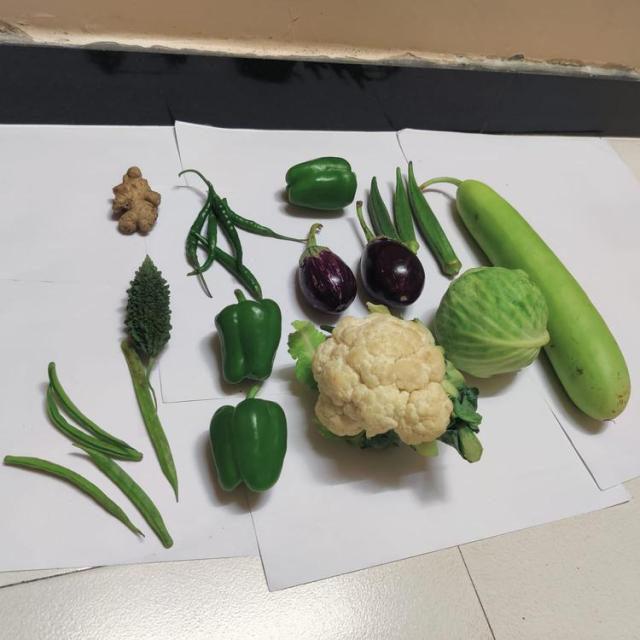Organik: (1, 353, 190, 560), (293, 315, 479, 462), (441, 160, 579, 280), (432, 267, 555, 384), (174, 169, 280, 301), (195, 381, 298, 499), (376, 159, 465, 273), (114, 243, 184, 364), (205, 289, 285, 387), (265, 144, 363, 221), (283, 226, 362, 315), (353, 223, 425, 306), (97, 162, 166, 239)
